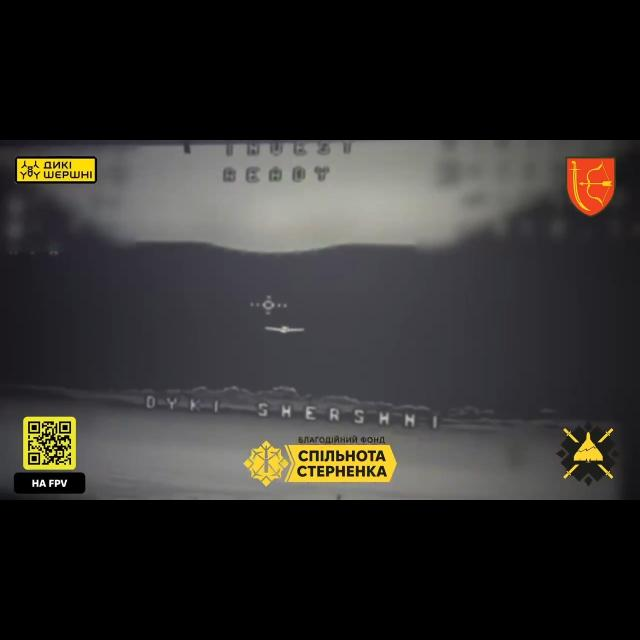Gerbera: (264, 324, 304, 334)
